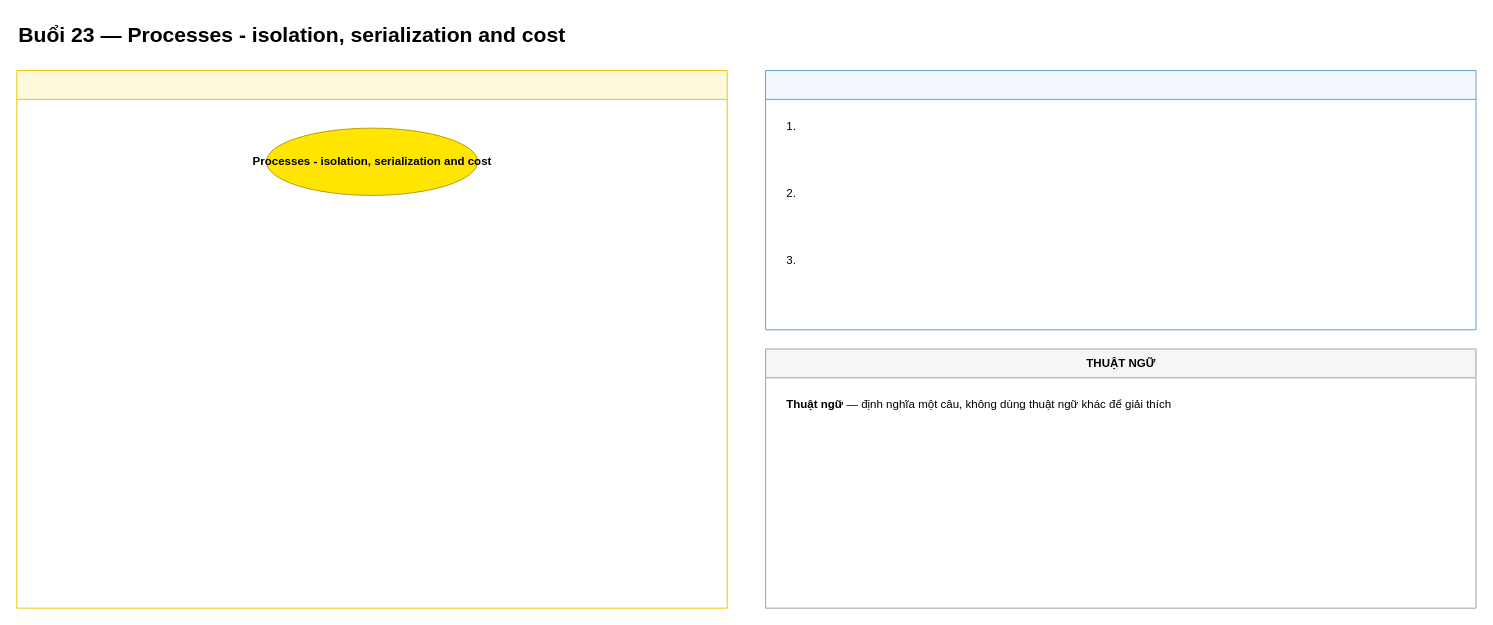
Image size: 1493x625. Some labels were removed from this diagram. The shapes that lost their labels are listed below. From the top down, each one's box as (x1, y1, x2, y2) in pixels, then its label:
(765, 70, 1476, 330): KEY TAKEAWAY — ba điều phải nhớ
(16, 70, 727, 608): MINDMAP
